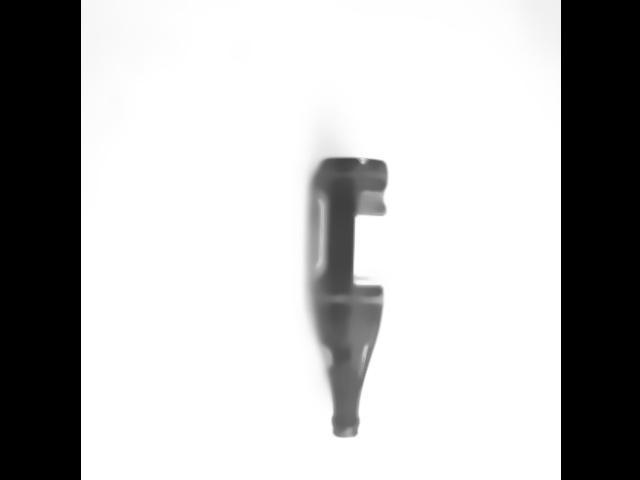Glass: (300, 155, 392, 439)
